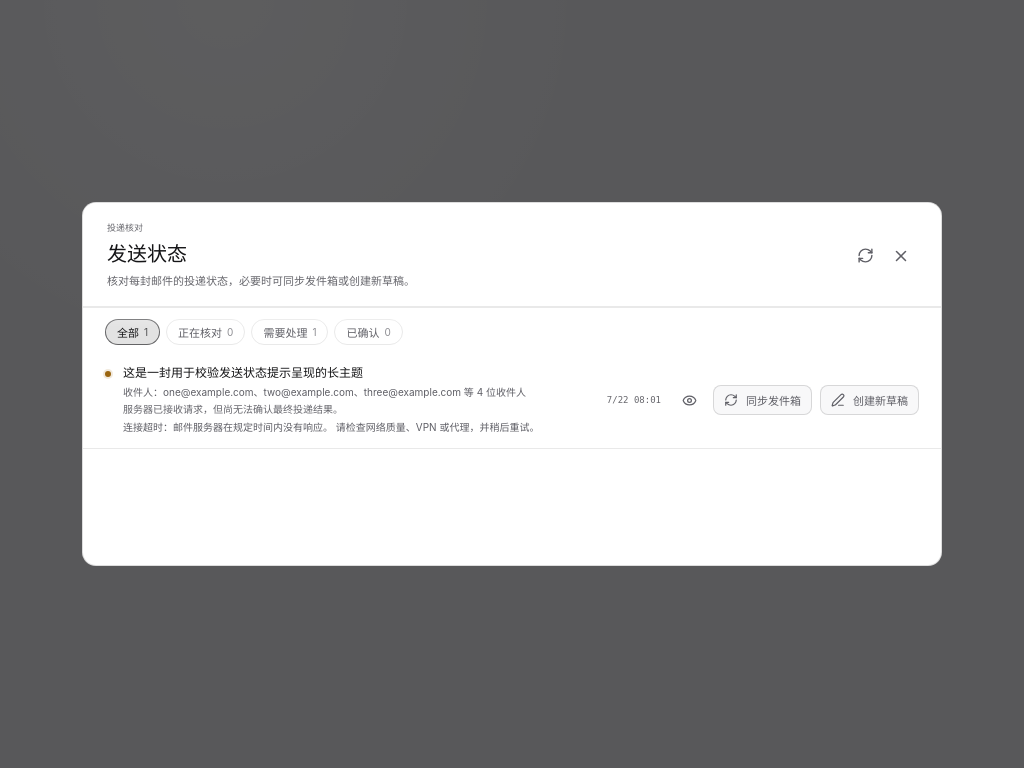
Test case: sending status modal read-only details dialog (client) › closes the details dialog via its close button
Click the button named "查看“这是一封用于校验发送状态提示呈现的长主题”的详情". click: click(689, 400)
box: [673,384,705,416]
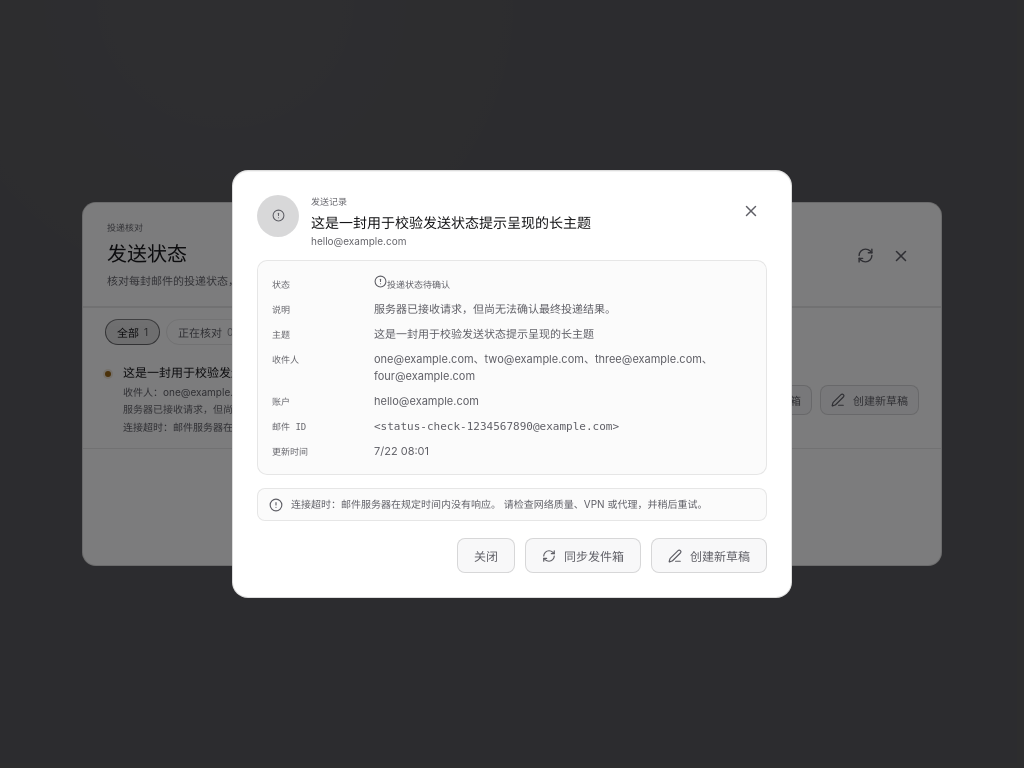
Expected: the dialog with class "sending-status-details-modal" is shown, [232,170,792,598]
Click the button named "关闭发送状态". click: click(751, 211)
box: [735,195,767,227]
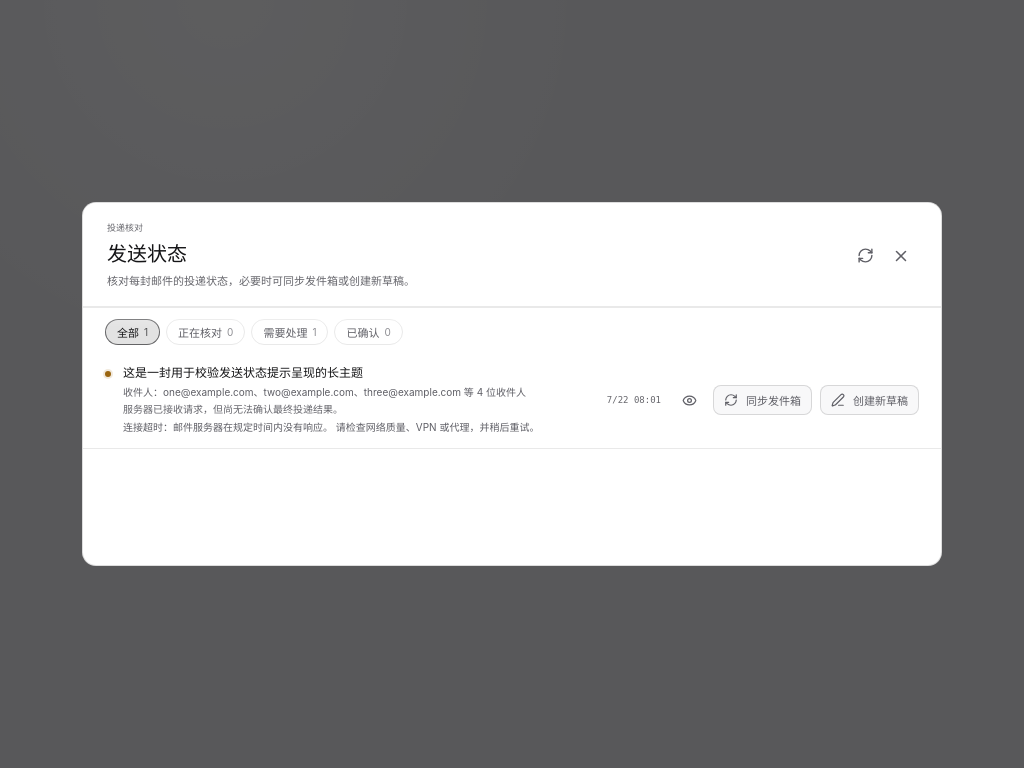
Expected: the dialog with class "sending-status-details-modal" is gone
